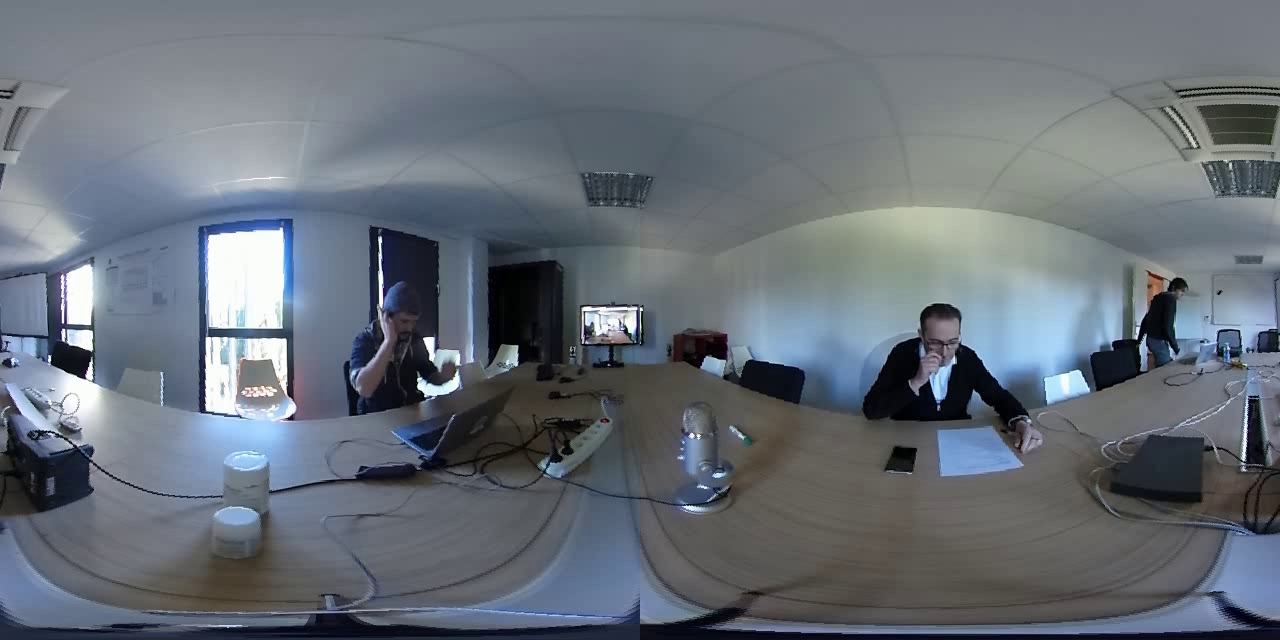person: (871, 289, 1002, 428), (346, 270, 446, 410), (1135, 271, 1208, 383)
